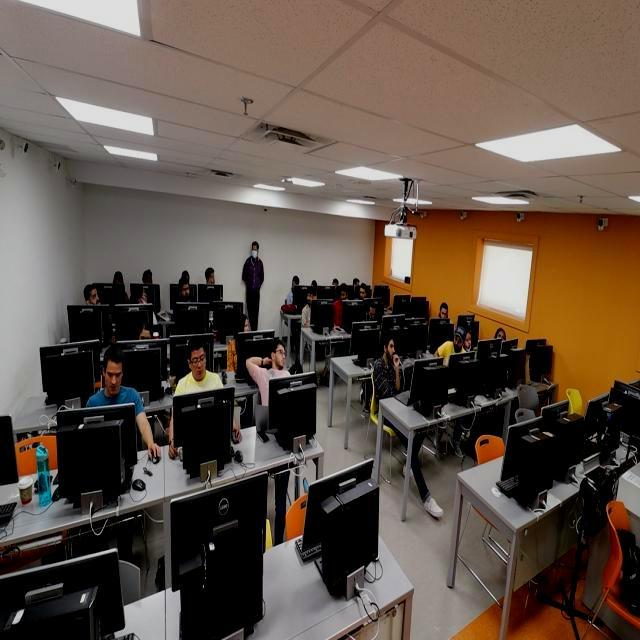Looking away: (104, 356, 124, 396), (190, 343, 207, 380), (268, 343, 286, 371), (239, 314, 250, 338), (452, 333, 464, 354), (462, 332, 472, 352), (439, 303, 449, 322)
Looking forward: (382, 336, 396, 363), (495, 328, 506, 348)
